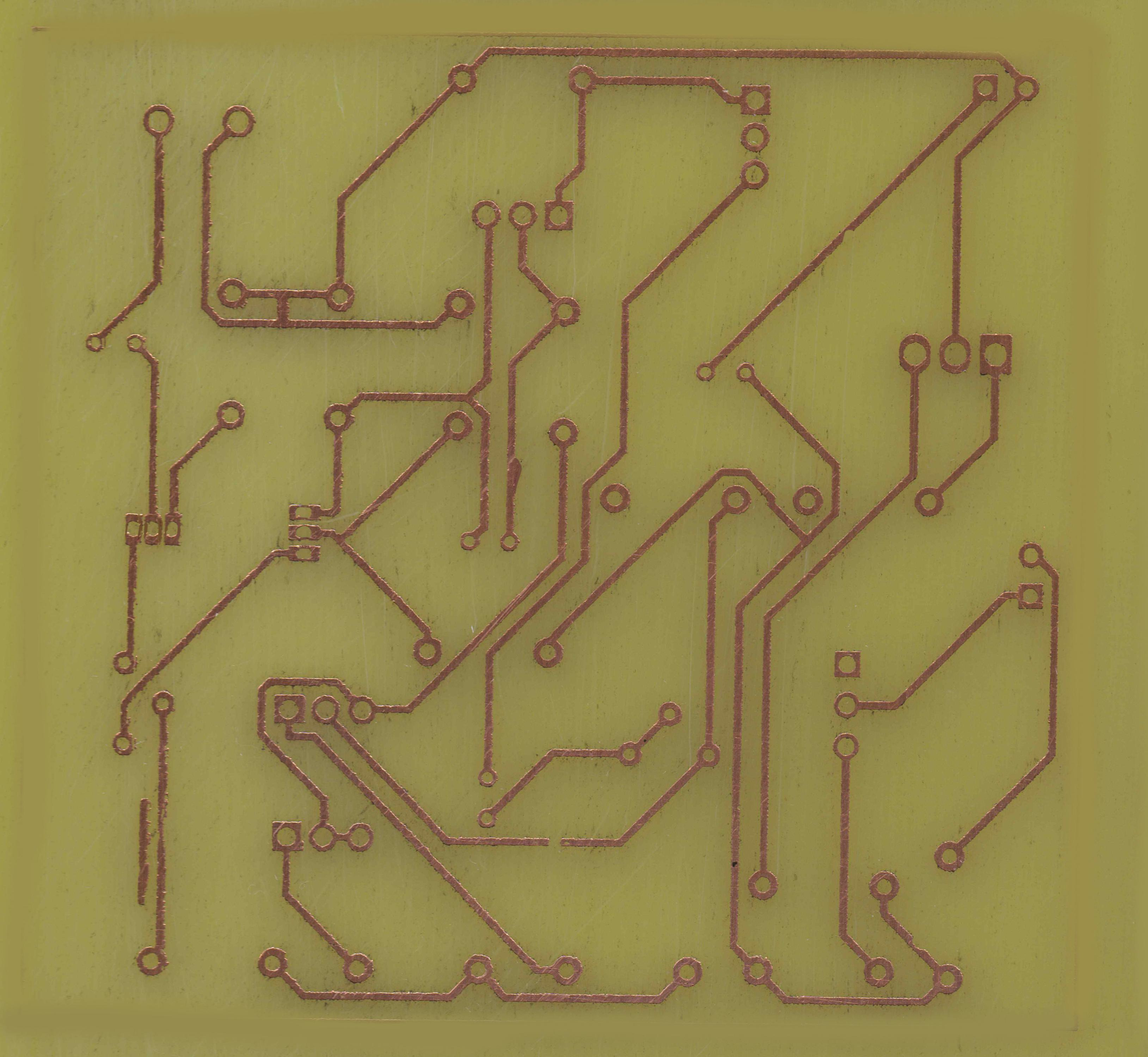mouse_bite: (905, 934, 927, 956), (838, 225, 856, 245)
open_circuit: (543, 834, 569, 851)
short: (272, 285, 293, 333)
spur: (504, 455, 523, 495)
spurious_copper: (135, 796, 152, 908)
